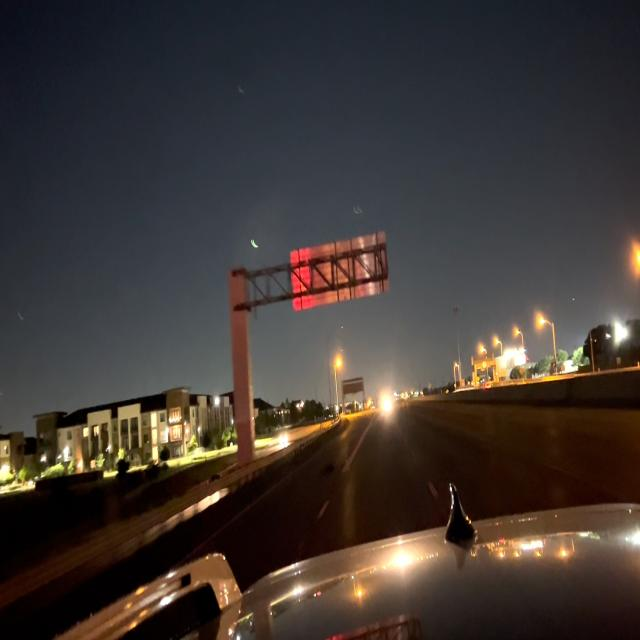back-of-sign: (292, 230, 391, 314)
